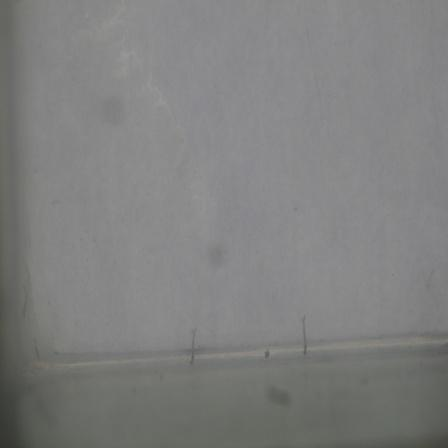Jentik-Nyamuk: (296, 309, 313, 359), (186, 326, 200, 369)
